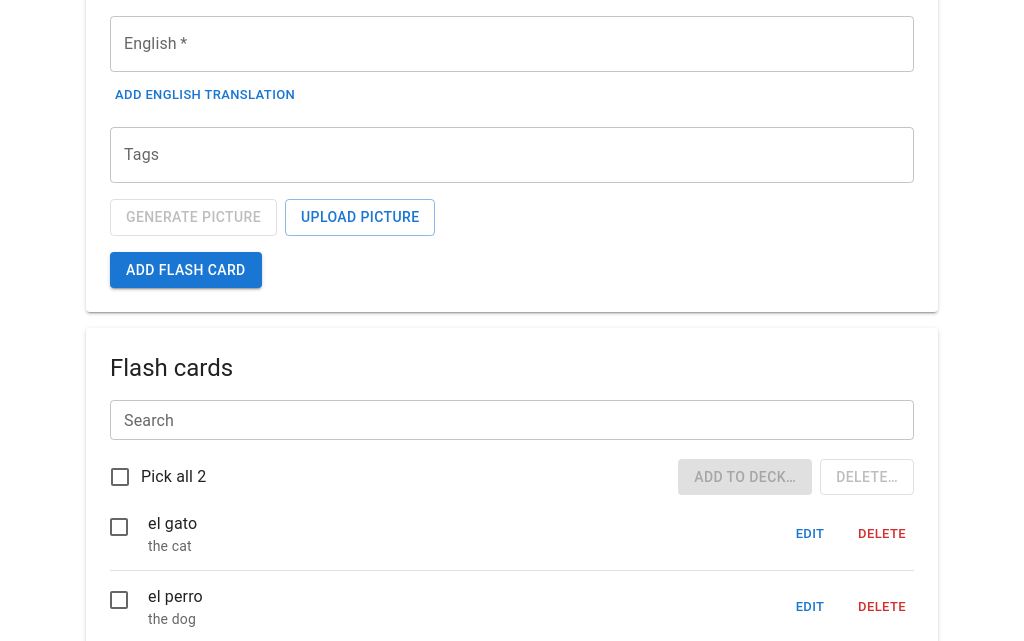
Scenario: editing a card › stays in edit mode when the change would duplicate another card
The image size is (1024, 641).
(page scrolled)
Expected: the text "el gato" is shown, [148, 514, 197, 533]
Click the button named "Edit \"el gato\"".
click(810, 534)  # box [778, 519, 842, 550]
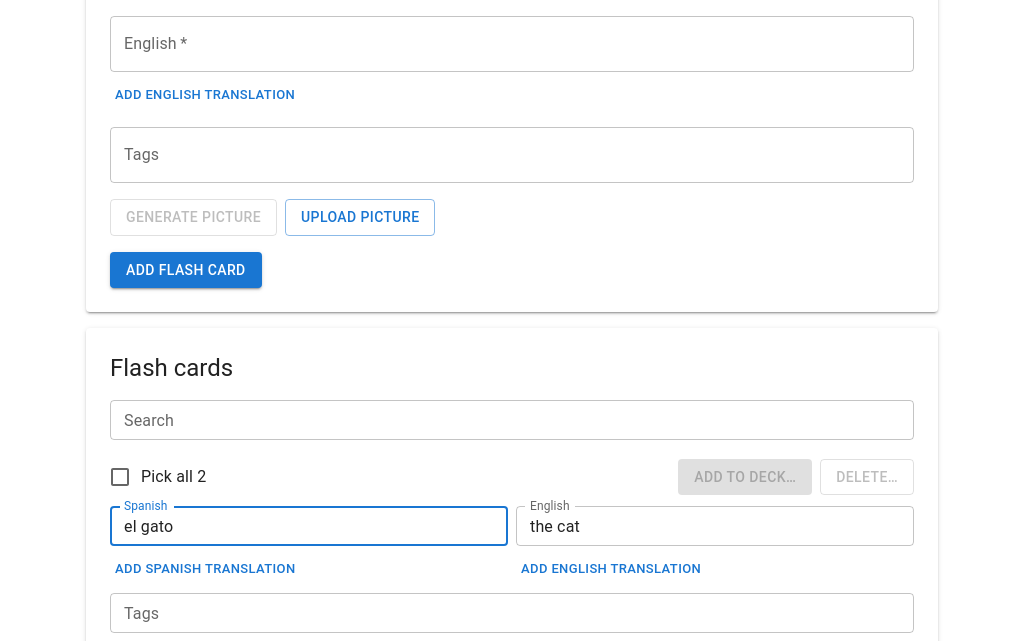
Replace the text in the field labelled "English" with "the dog" at {"x": 715, "y": 526}, box [516, 506, 914, 546]
(page scrolled)
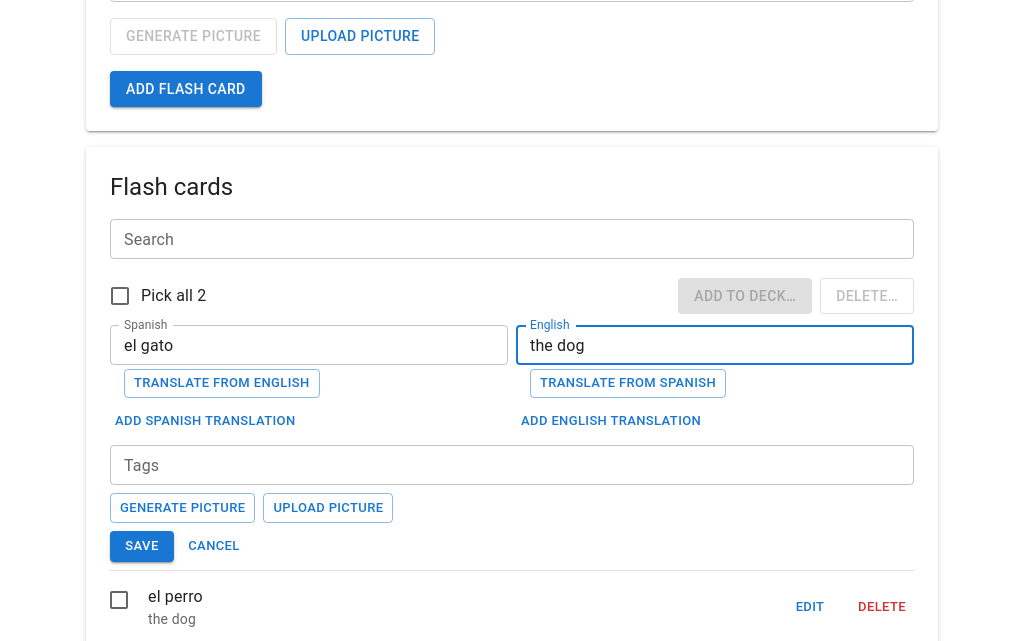
Click the button "Save".
click(142, 547)  # box [110, 531, 174, 562]
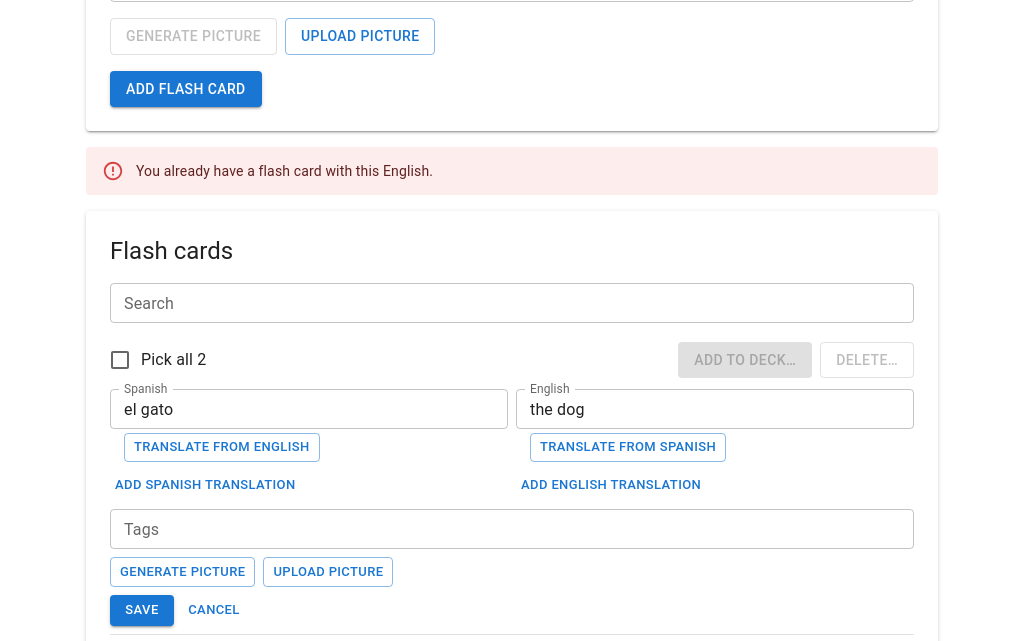
Result: the button "Save" is shown at [110, 595, 174, 626]
Result: the message reads "You already have a flash card with this English." at [136, 163, 433, 179]
